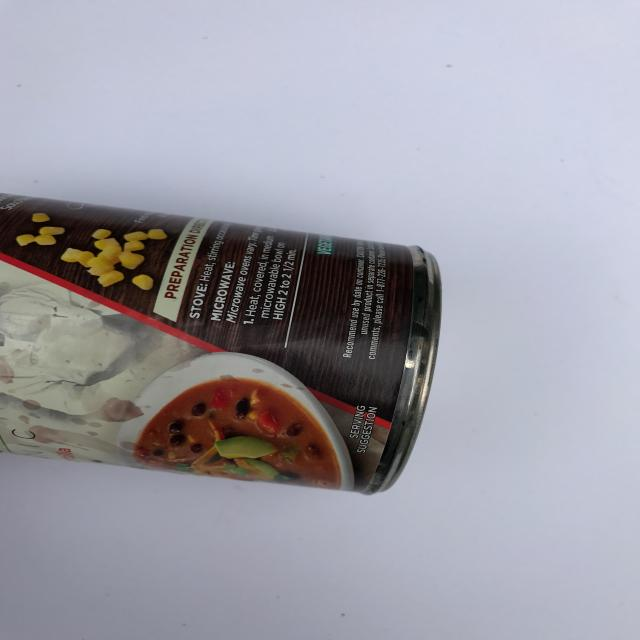metal: (0, 190, 443, 495)
